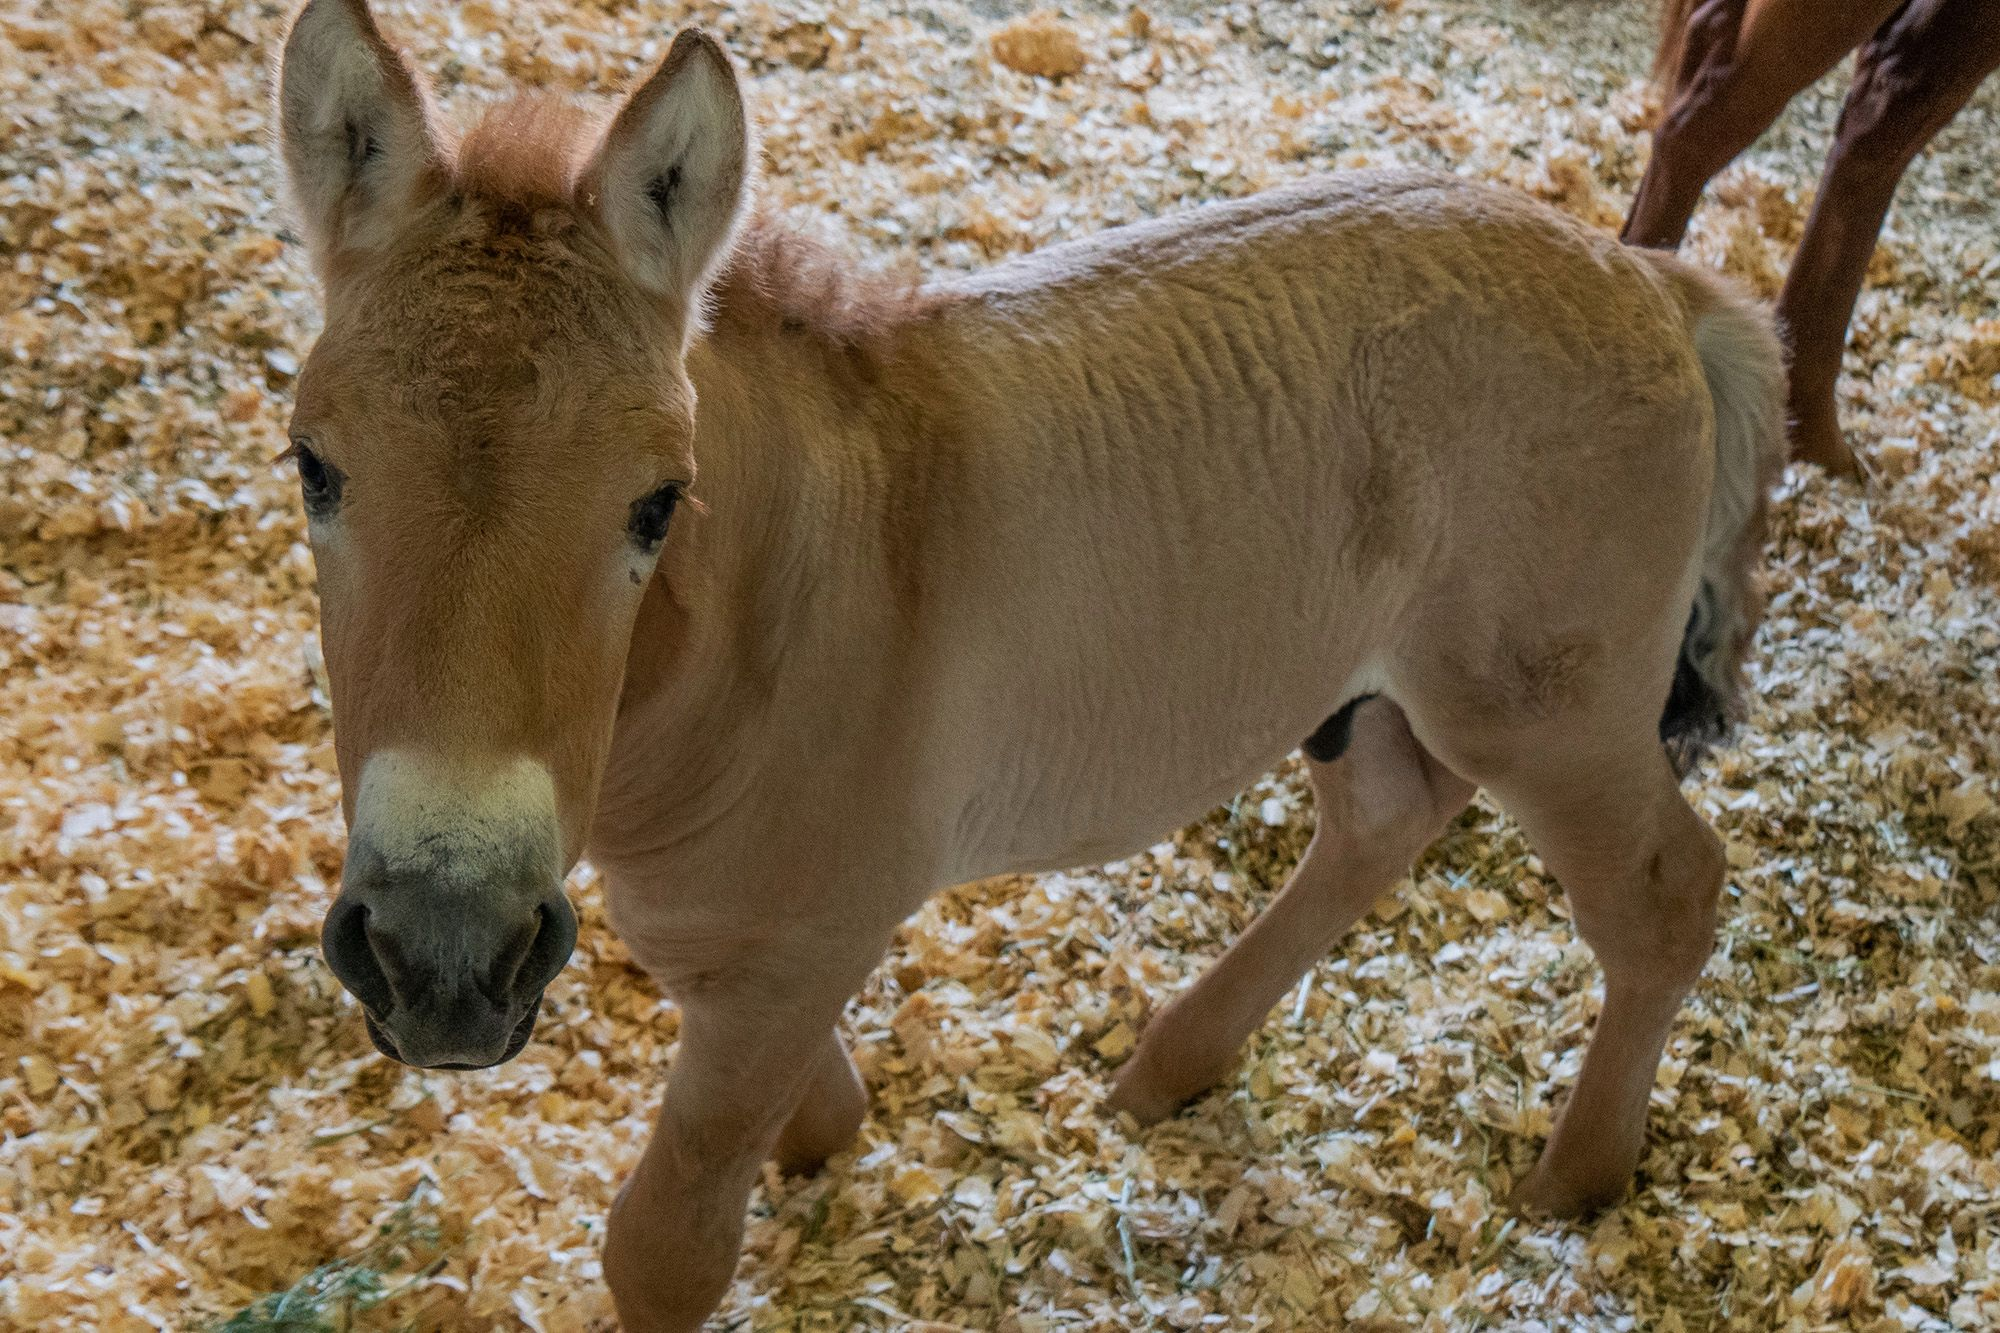Horse: (123, 1, 1790, 1333)
